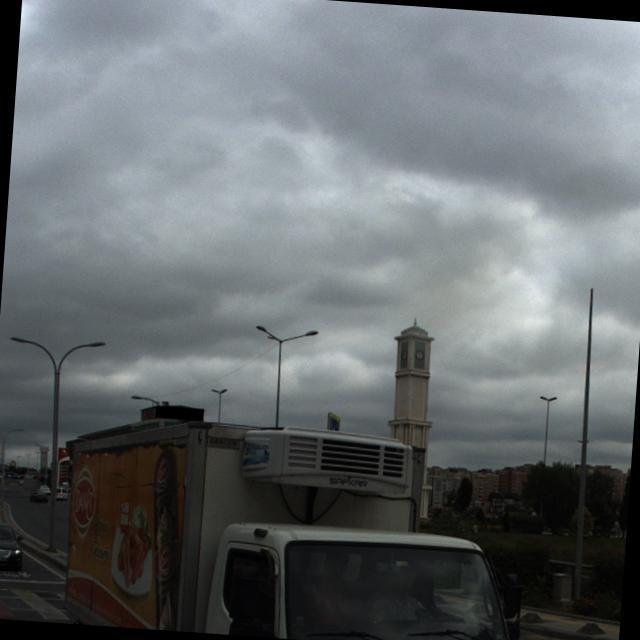SignStore: (156, 406, 203, 421)
